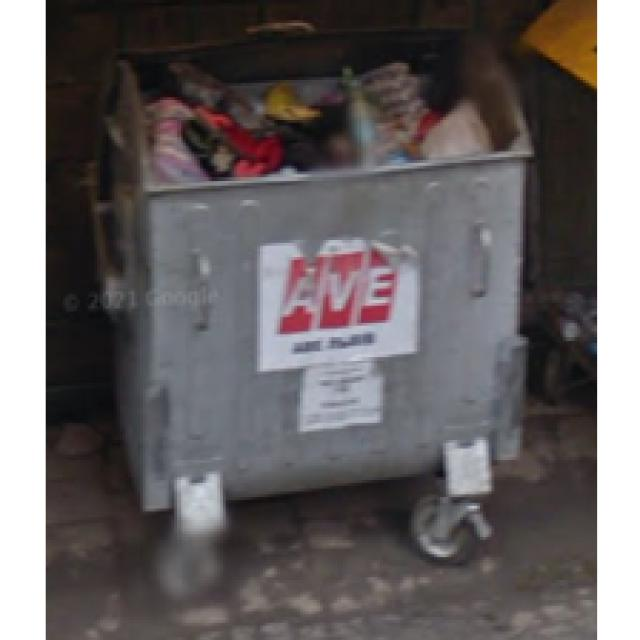general wastetrash bin: (90, 41, 540, 582)
